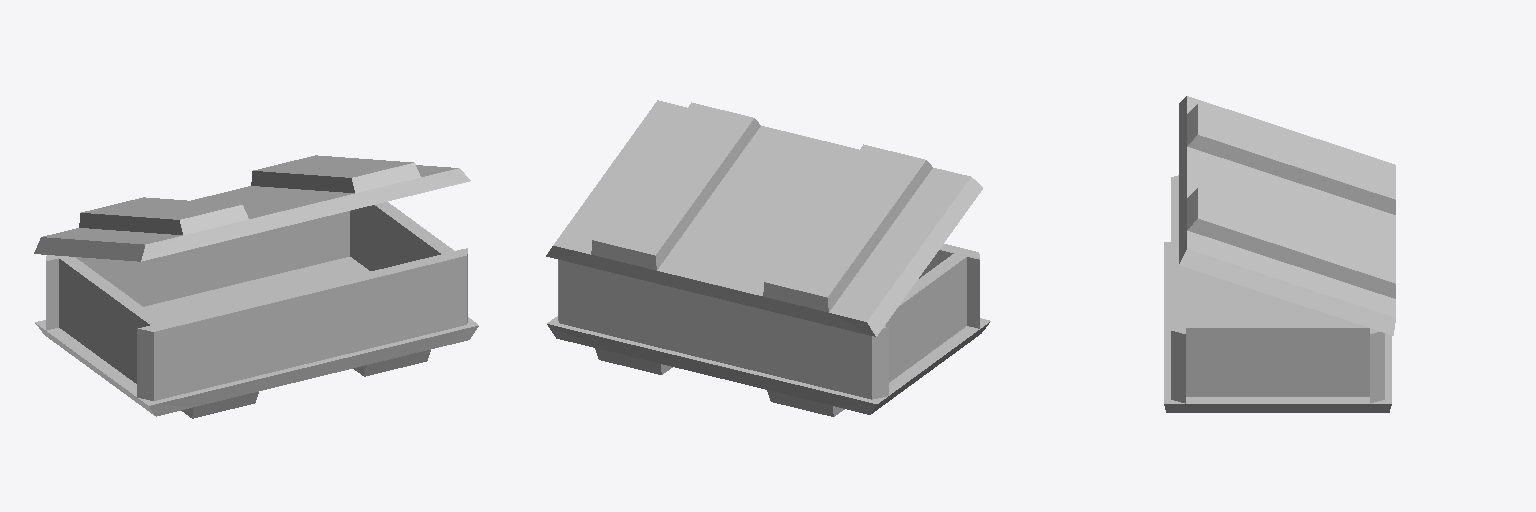
The model's file is Crate-01.obj.
The picture shows the model from 3 angles: view 1: azimuth 30°, elevation 25°; view 2: azimuth 150°, elevation 25°; view 3: azimuth 270°, elevation 25°; orthographic projection.
Visible parts, largest first — view 1: Crate_01; view 2: Crate_01; view 3: Crate_01.
Boxes of the visible parts, <box> form: Crate_01: <box>34,155,478,418</box>; Crate_01: <box>546,100,990,416</box>; Crate_01: <box>1164,96,1395,412</box>.
Size of the model in its own units: 0.375 by 0.2054 by 0.2283.